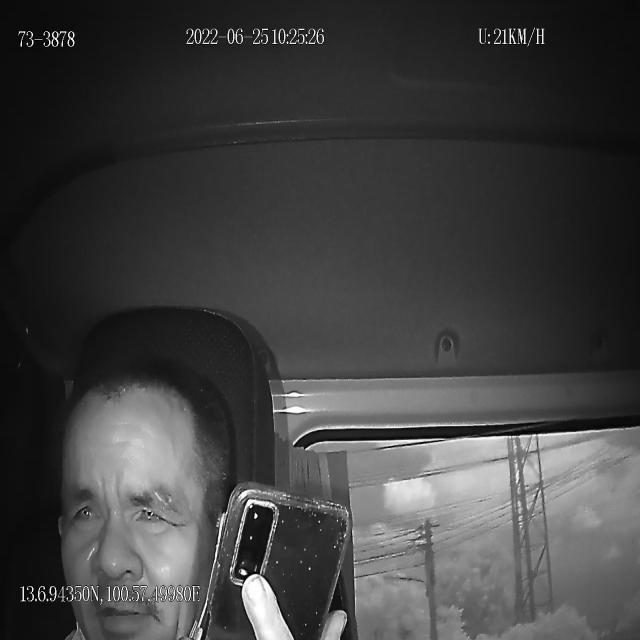phone: (204, 481, 352, 640)
